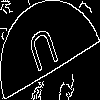U: (25, 25, 64, 83)
